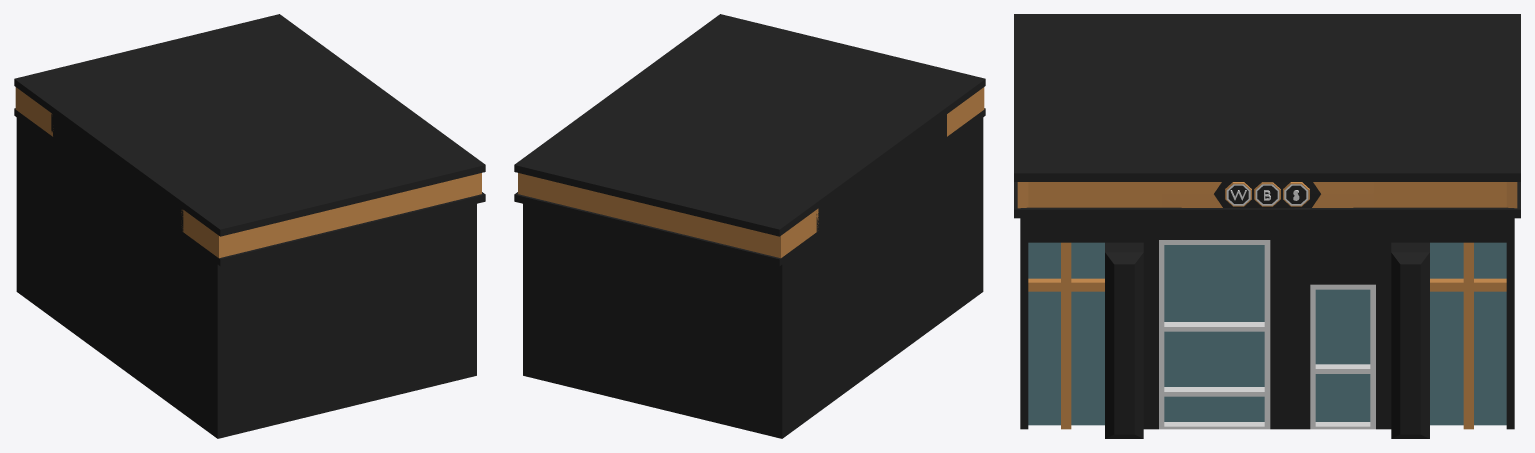
The model's file is Store5a.fbx.
The picture shows the model from 3 angles, left to right: view 1: azimuth 30°, elevation 25°; view 2: azimuth 150°, elevation 25°; view 3: azimuth 270°, elevation 25°; orthographic projection. The views are drawn at different scales.
Parts seen in each view (by area): view 1: Store5a; view 2: Store5a; view 3: Store5a.
Boxes of the visible parts, box(x1,y1,x2,y2) form: Store5a: box(14, 14, 485, 438); Store5a: box(514, 14, 985, 438); Store5a: box(1014, 14, 1520, 438).
Size of the model in its own units: 333 by 238 by 422.
